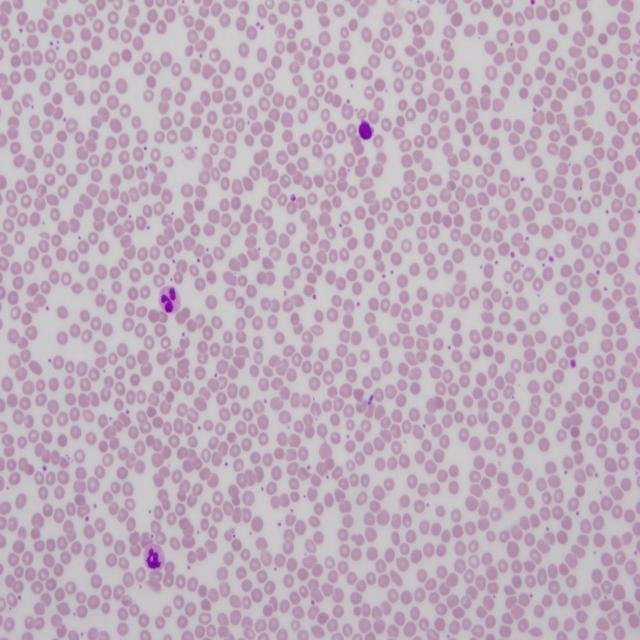cell: (144, 543, 165, 571)
